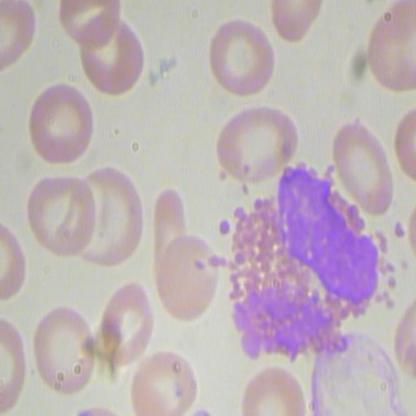RBC: (70, 161, 146, 271), (203, 106, 300, 185), (330, 118, 398, 223), (77, 11, 153, 102), (22, 81, 101, 168), (29, 302, 98, 396), (205, 17, 281, 96), (157, 233, 222, 325), (26, 176, 96, 257), (96, 276, 151, 374), (125, 351, 208, 415), (152, 175, 187, 291)
WBC: (191, 157, 411, 374)
